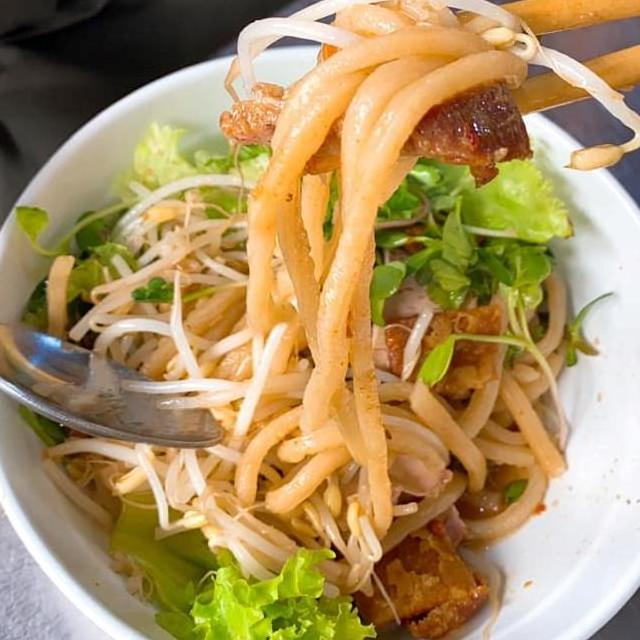banh da: (337, 511, 497, 640), (376, 298, 509, 404)
mi: (222, 0, 538, 547), (398, 256, 580, 541)
thit heo: (212, 70, 538, 198)
